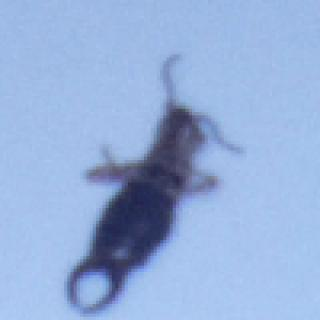earwig: (63, 49, 246, 318)
